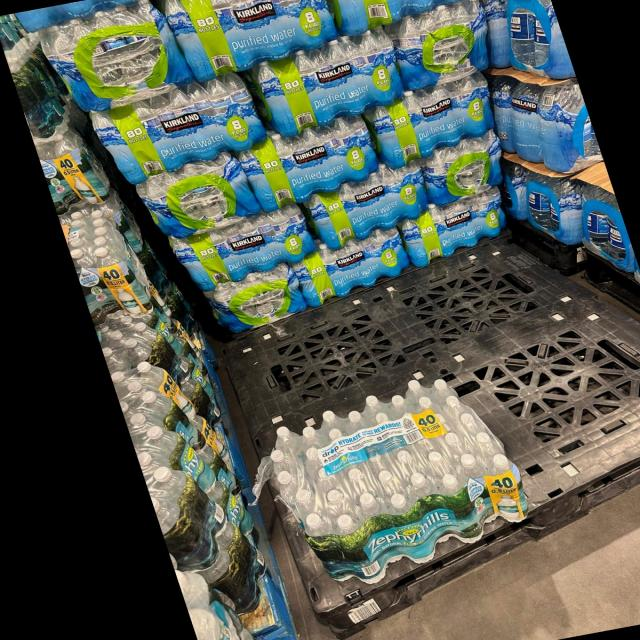igps: (217, 232, 640, 640)
